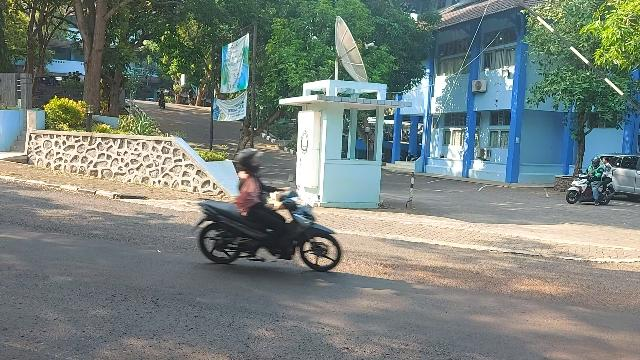helm: (238, 149, 266, 173), (592, 158, 601, 167)
motor: (192, 176, 343, 272), (567, 170, 615, 206)
non-helm: (604, 158, 610, 164)
